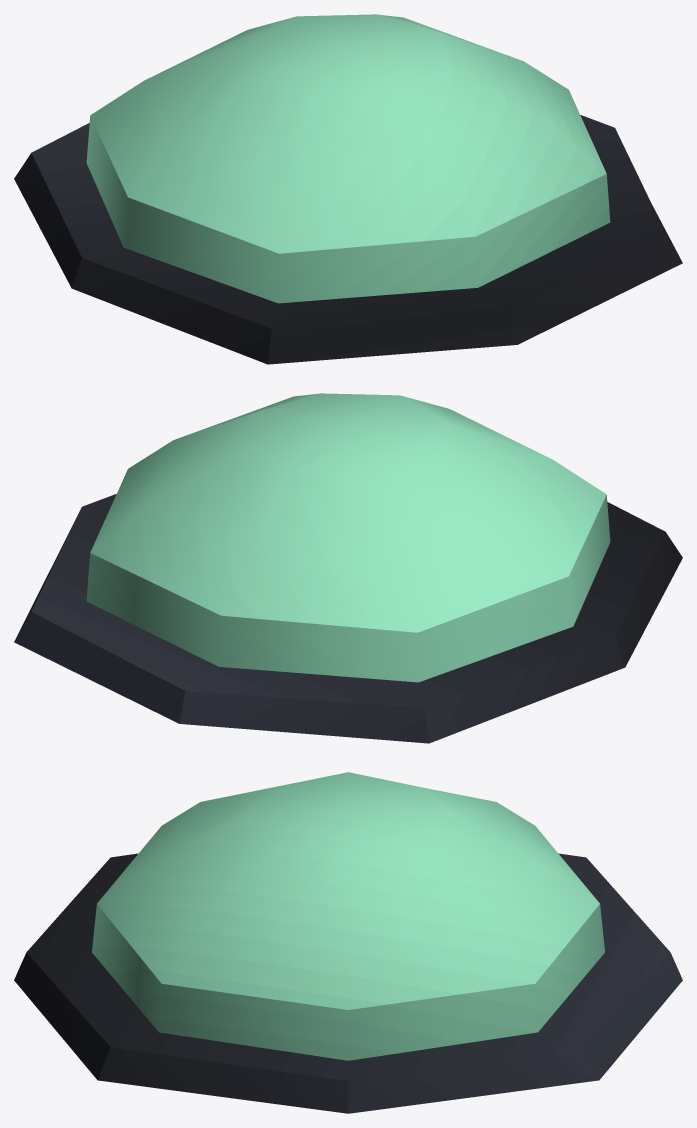
The model's file is SM_light.fbx.
The picture shows the model from 3 angles, top to bottom: view 1: azimuth 30°, elevation 25°; view 2: azimuth 150°, elevation 25°; view 3: azimuth 270°, elevation 25°; orthographic projection.
Parts seen in each view (by area): view 1: SM_indicatorLight; view 2: SM_indicatorLight; view 3: SM_indicatorLight.
Boxes of the visible parts, x1,y1,x2,y2 form: SM_indicatorLight: [14, 14, 682, 364]; SM_indicatorLight: [14, 393, 682, 743]; SM_indicatorLight: [14, 772, 682, 1113].
Size of the model in its own units: 23.71 by 7.09 by 25.1.
